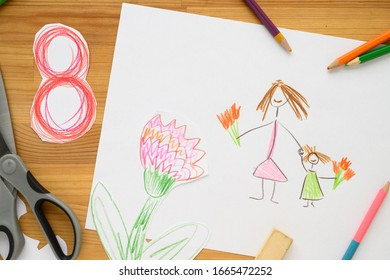flower: (235, 78, 310, 205), (136, 111, 208, 229), (294, 143, 333, 209), (215, 102, 246, 148), (332, 156, 357, 191)
